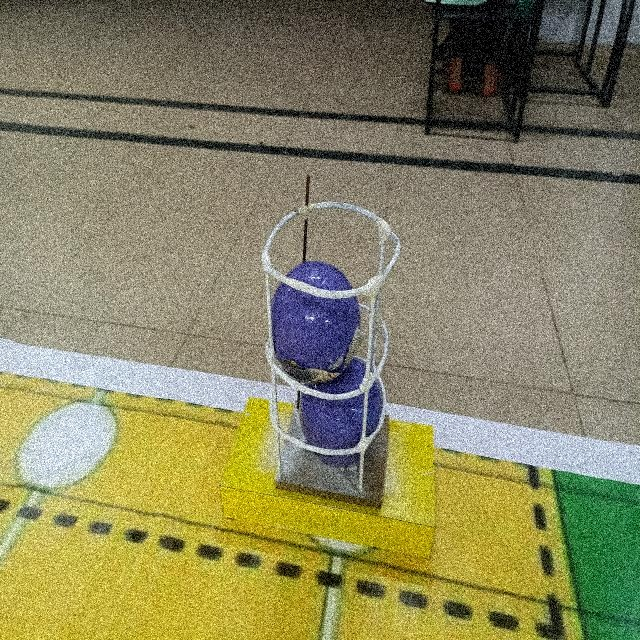purple_ball: (273, 248, 373, 380), (296, 359, 386, 465)
silo: (264, 182, 399, 508)
